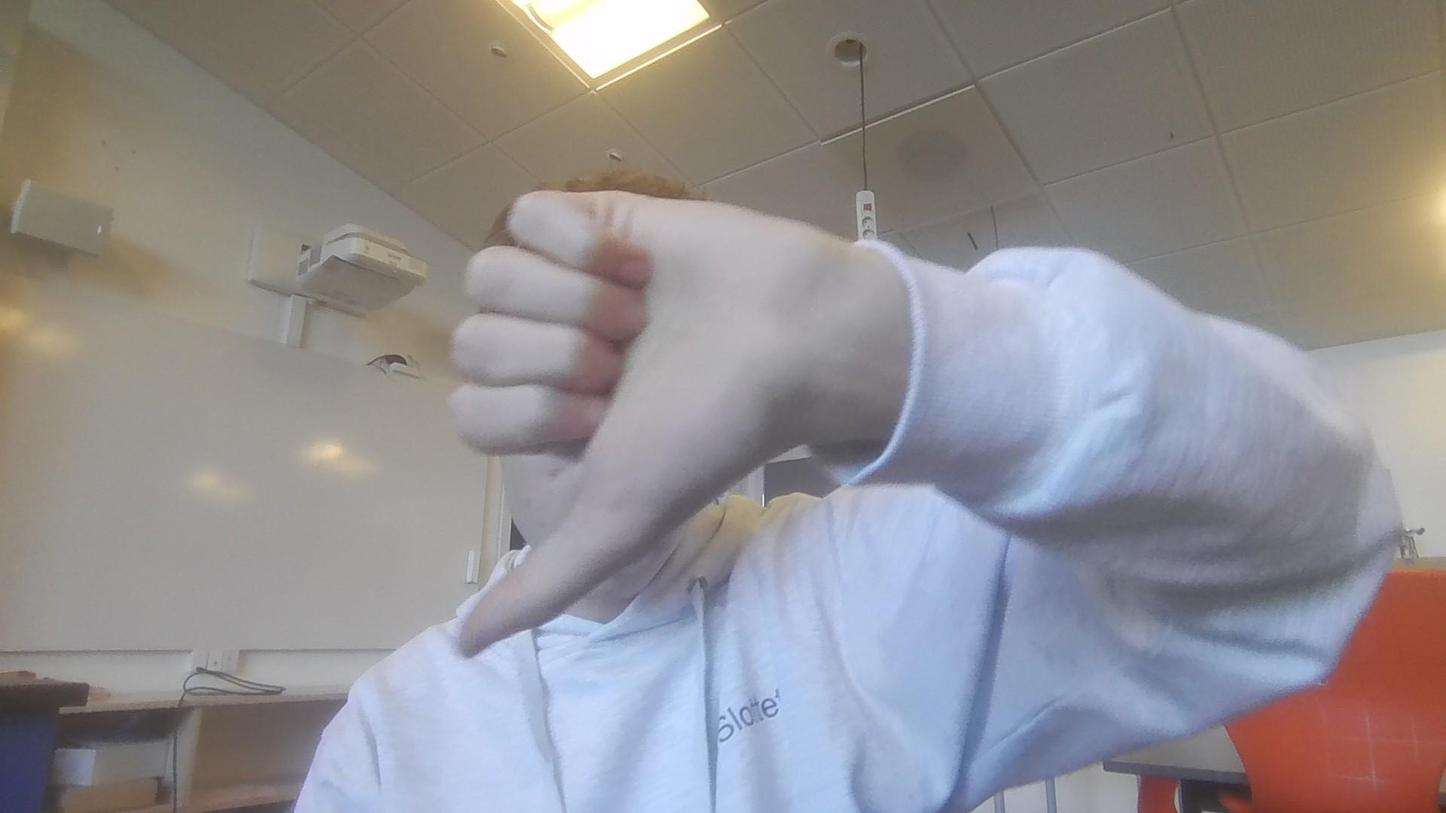thumbs down: (452, 186, 840, 676)
